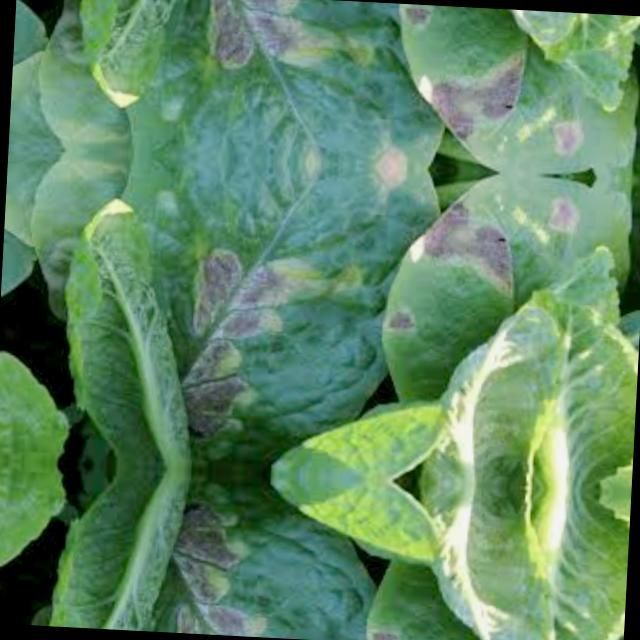Downy_mildew: (150, 166, 420, 474), (414, 168, 598, 417), (140, 474, 404, 640), (166, 0, 430, 156), (60, 220, 209, 470), (427, 6, 607, 178), (52, 462, 196, 634), (402, 554, 579, 640), (80, 0, 221, 87)
